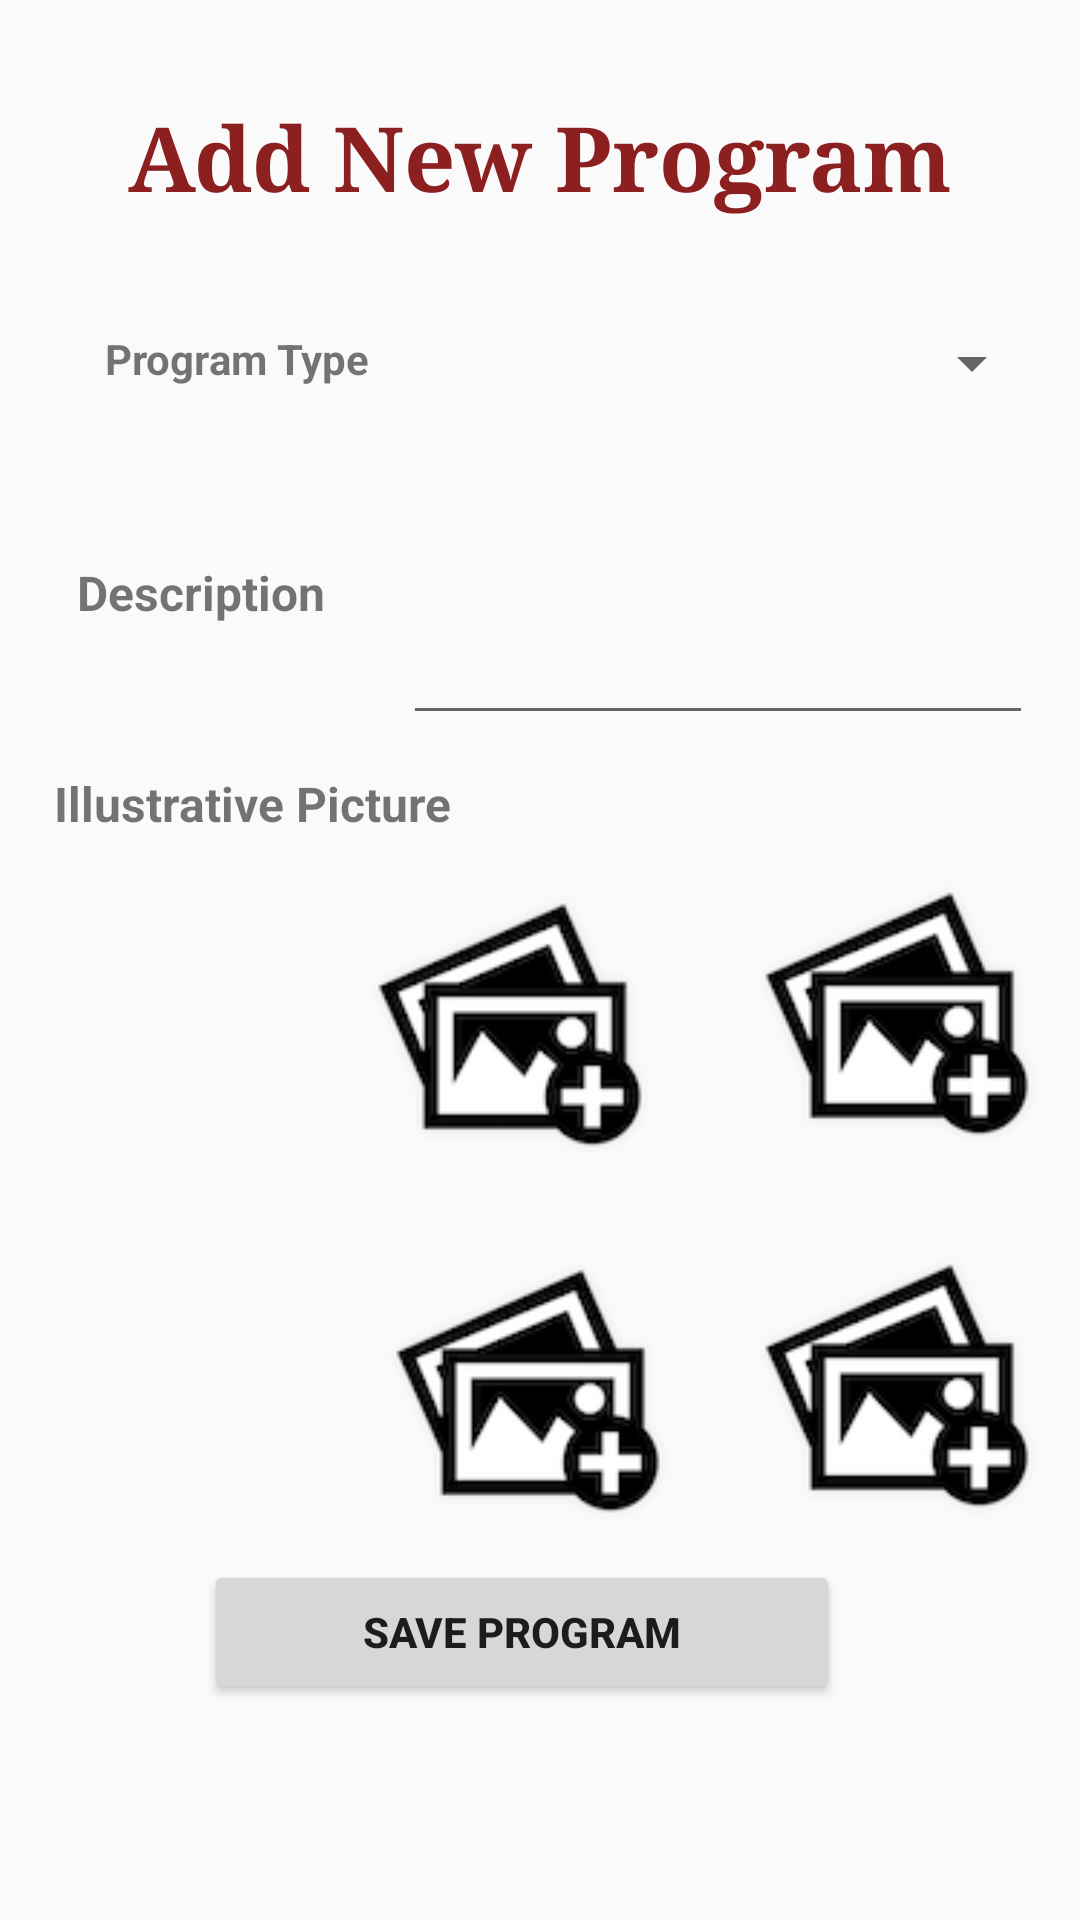

Icons on this 1080px×1920px Android screen, each with the point to tap as point (x, y):
add: point (897, 1014), point (510, 1025), point (897, 1386), point (528, 1391)
